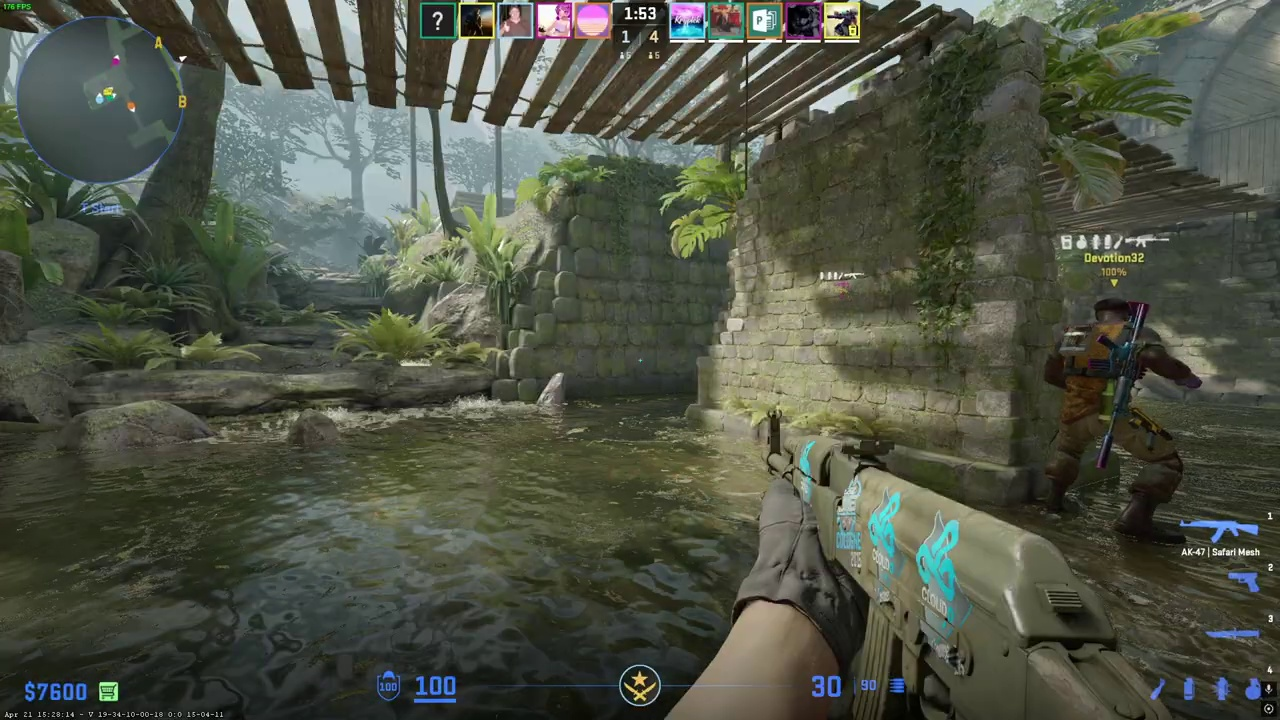Terrorist: (1043, 296, 1192, 543)
